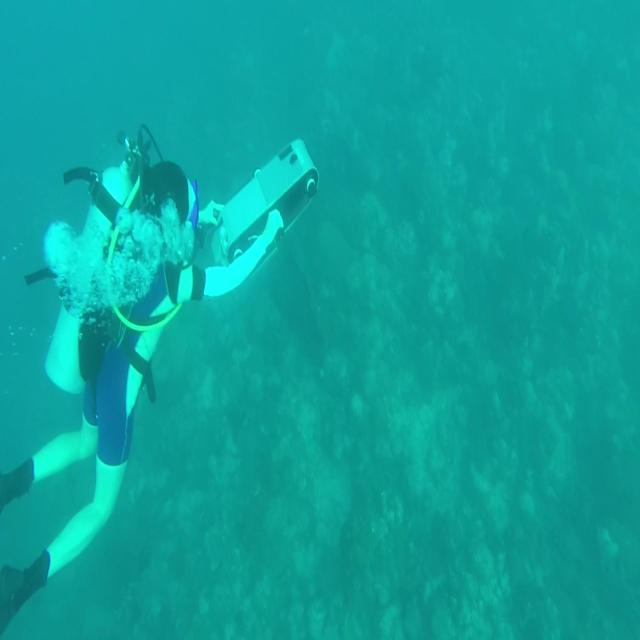human: (1, 128, 318, 633)
